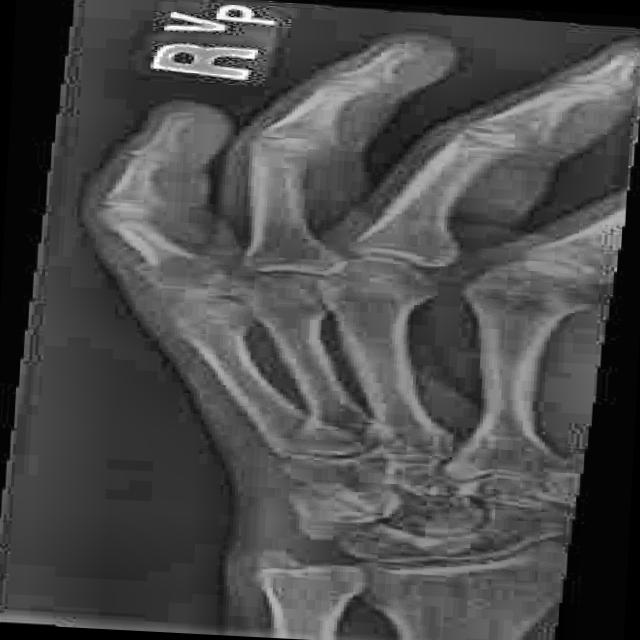fingers positive: (246, 132, 350, 165)
